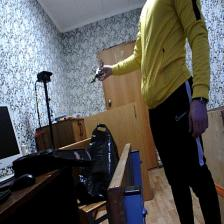drone: (88, 58, 107, 86)
